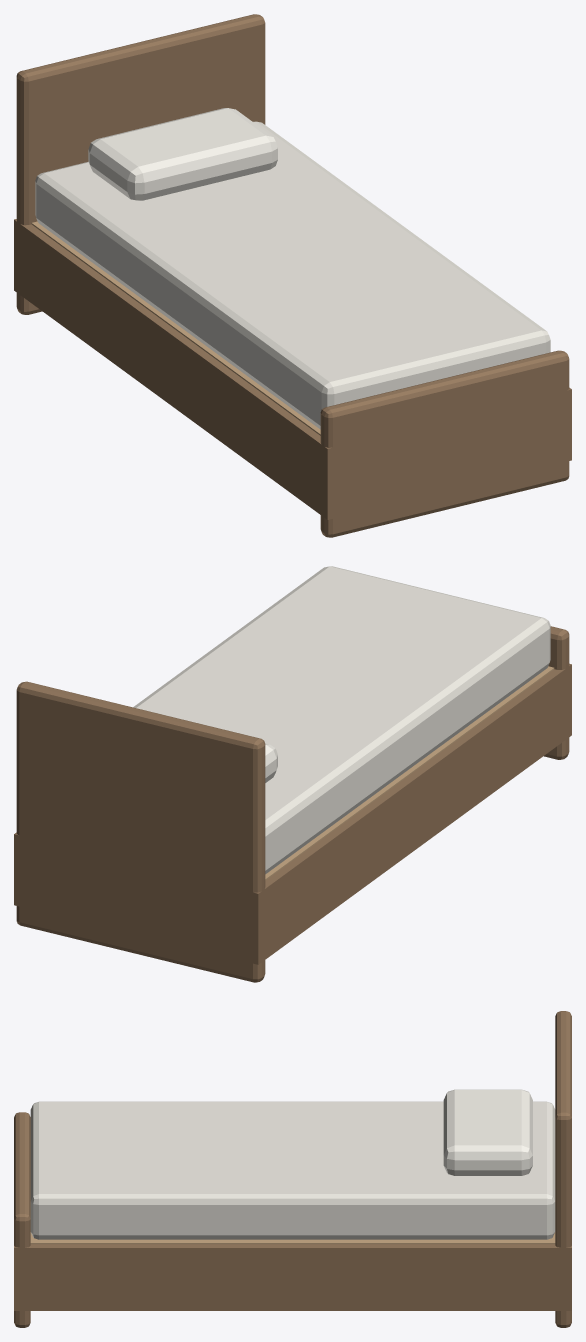
The model's file is fur_bed.glb.
The picture shows the model from 3 angles, top to bottom: view 1: azimuth 30°, elevation 25°; view 2: azimuth 150°, elevation 25°; view 3: azimuth 270°, elevation 25°; orthographic projection. The views are drawn at different scales.
Visible parts, largest first — view 1: fur_bed; view 2: fur_bed; view 3: fur_bed.
Part boxes in pixels (x1,y1,x2,y2): fur_bed: (14,14,571,537); fur_bed: (14,566,571,982); fur_bed: (14,1011,571,1327).
Size of the model in its own units: 0.9 by 0.85 by 2.
